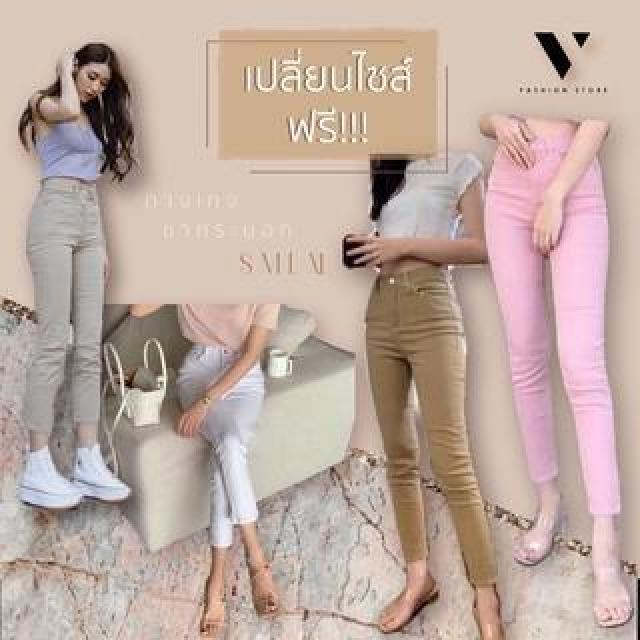Tshirt: (361, 155, 485, 261)
pants: (489, 138, 627, 524), (364, 266, 492, 592), (25, 183, 101, 455), (178, 340, 270, 550)
